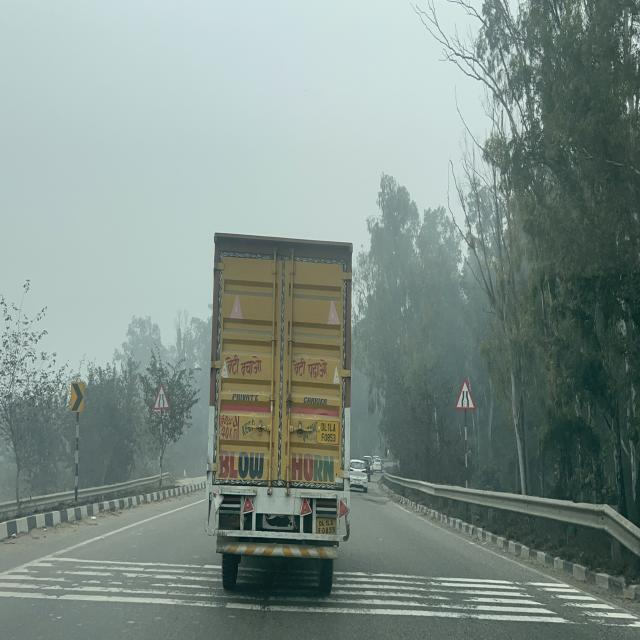NARROW_ROAD_AHEAD: (455, 378, 476, 410), (153, 384, 170, 411)
TURN_RIGHT: (70, 382, 84, 412)
